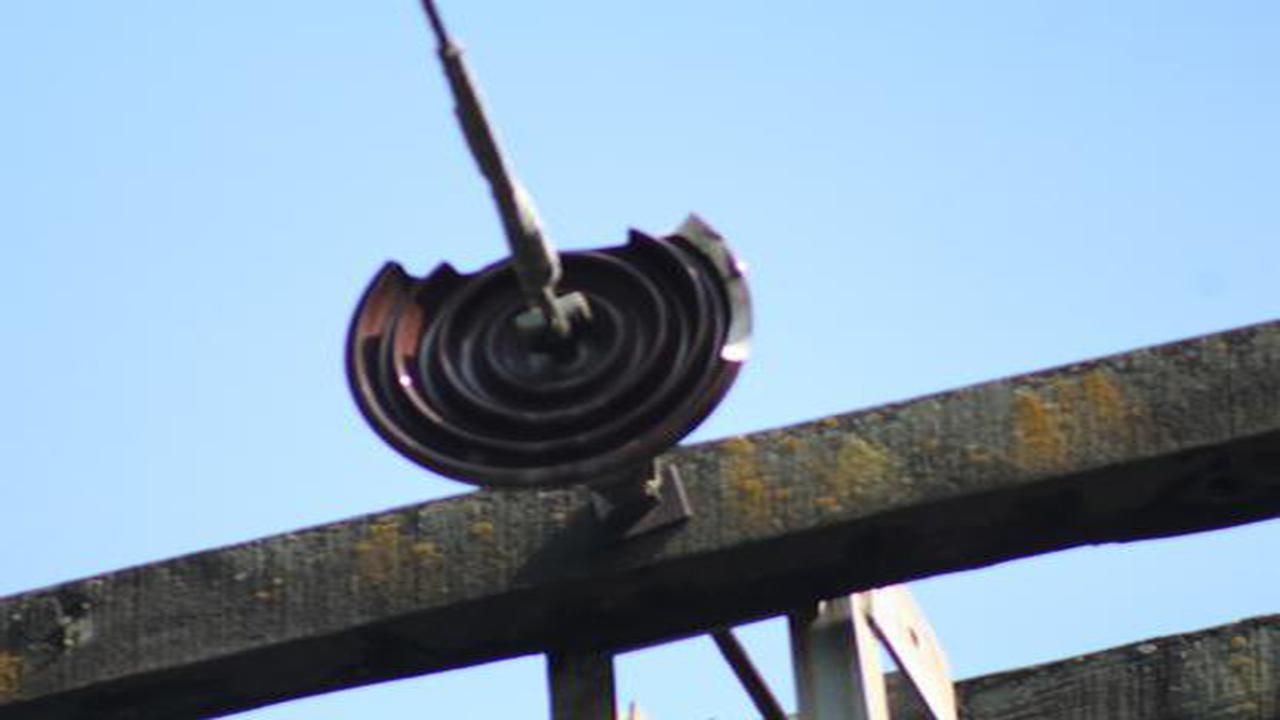defect_disc: (335, 200, 765, 466)
